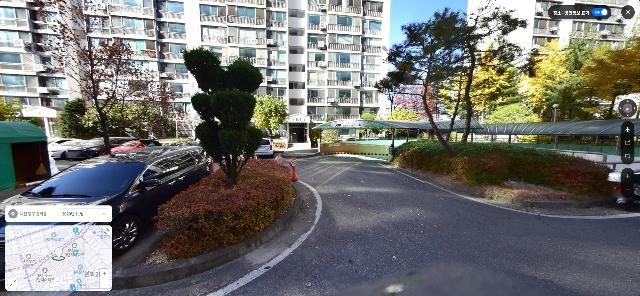ginkgo: (438, 48, 524, 142), (518, 37, 573, 143)
other: (372, 0, 556, 154), (20, 0, 188, 160), (183, 47, 264, 186), (250, 96, 289, 139), (56, 98, 93, 139)
